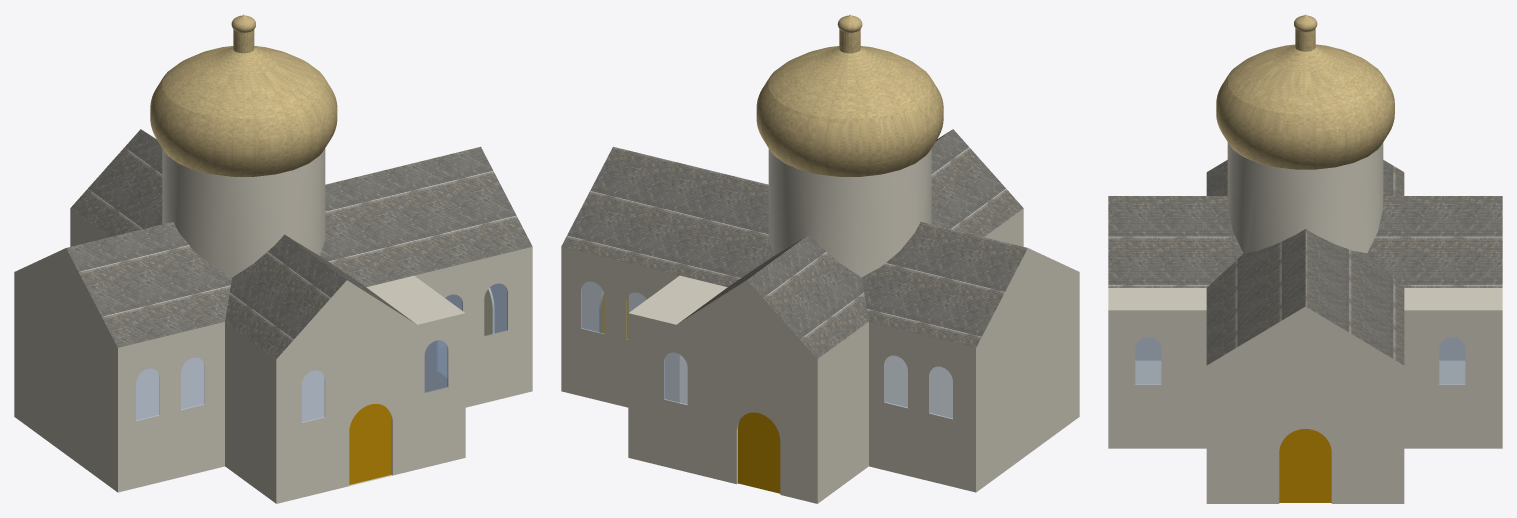
Rendered from uspenskaya-cerkov.glb.
3 views of the same model, side by side, from view 1: azimuth 30°, elevation 25°; view 2: azimuth 150°, elevation 25°; view 3: azimuth 270°, elevation 25° (orthographic). The views are drawn at different scales.
Visible parts, largest first — view 1: Geom3D (×5); view 2: Geom3D (×5); view 3: Geom3D (×5).
Boxes of the visible parts, x1,y1,x2,y2 form: Geom3D (×5): [14, 14, 532, 503]; Geom3D (×5): [561, 14, 1079, 503]; Geom3D (×5): [1108, 14, 1502, 503].
Bounding box in the file's own units: 21 × 19.22 × 18.08.
5 materials, 2 textured.
